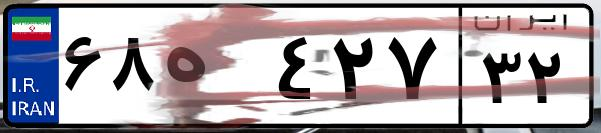2: (330, 28, 385, 110), (525, 38, 570, 115)
3: (475, 38, 525, 113)
4: (270, 28, 330, 110)
6: (57, 26, 110, 100)
7: (385, 28, 445, 110)
8: (110, 28, 158, 98)
ه: (158, 20, 270, 120)
